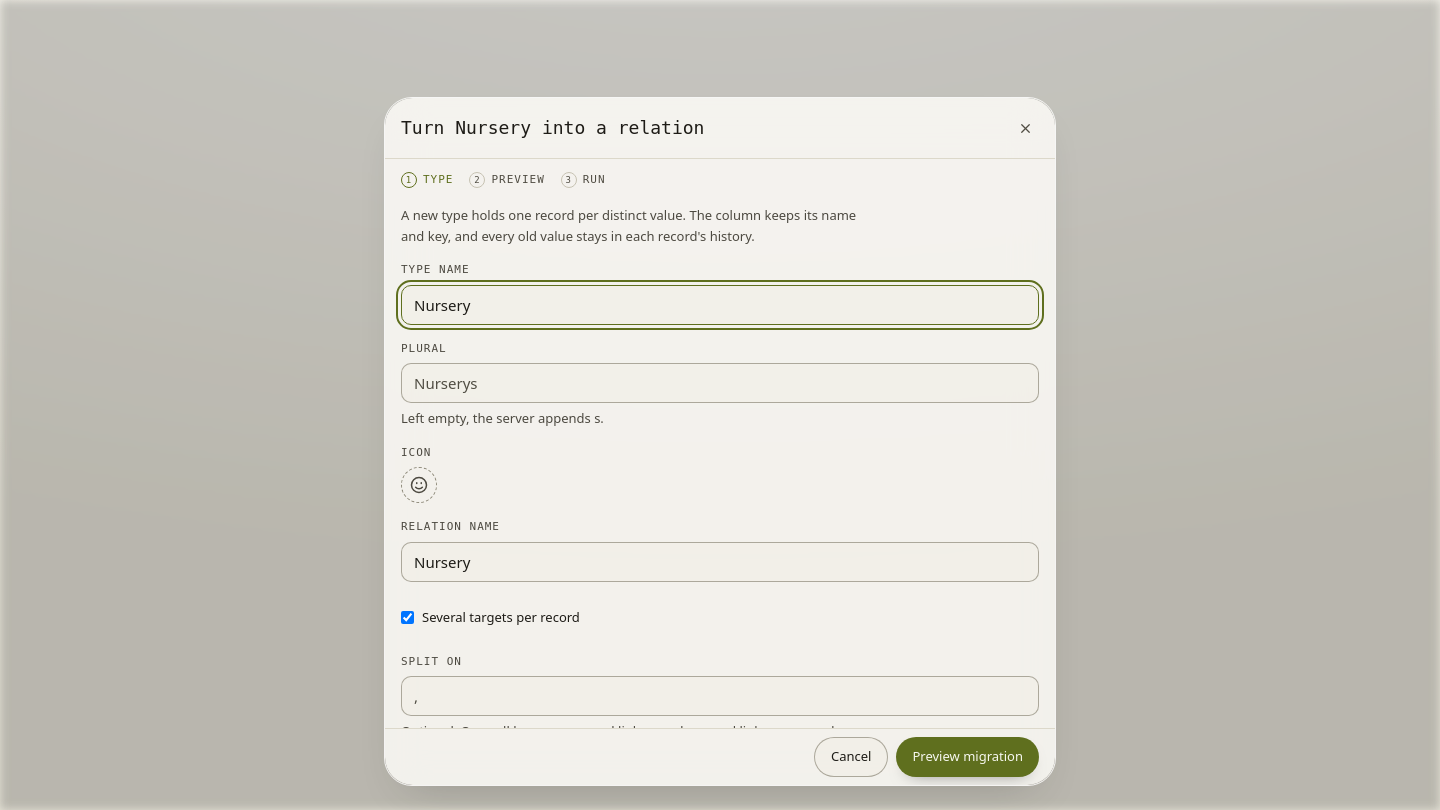
Test: PromoteColumnDialog › disables Create while blocking reasons exist
This screenshot has width=1440, height=810.
Click the button "Preview migration" at [968, 757], box [896,737,1039,777]
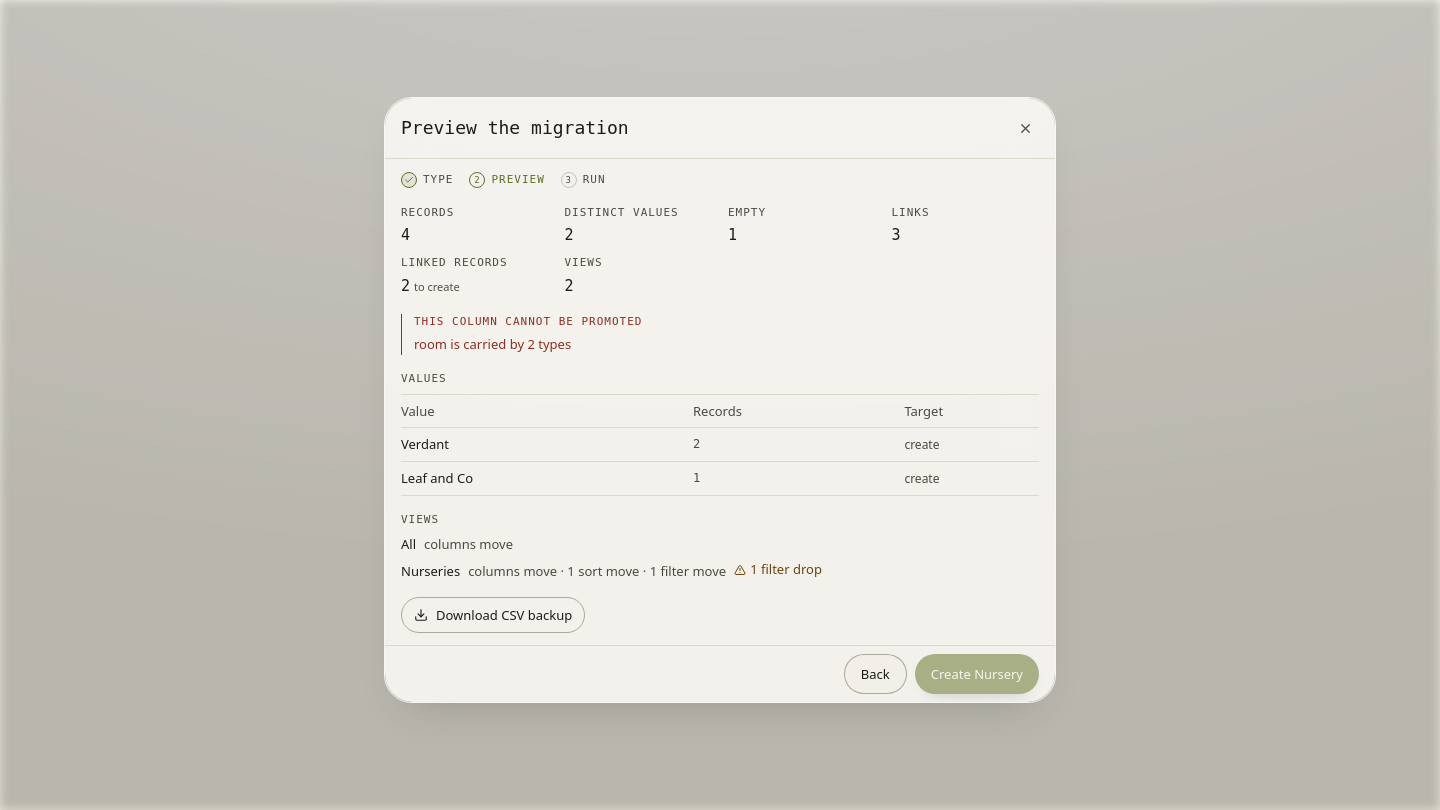
Now the text "This column cannot be promoted" is shown, box [414,315,642,328]
Now the list item "room is carried by 2 types" is shown, box [414,335,571,353]
Now the button "Create Nursery" is disabled, box [915,654,1039,694]
